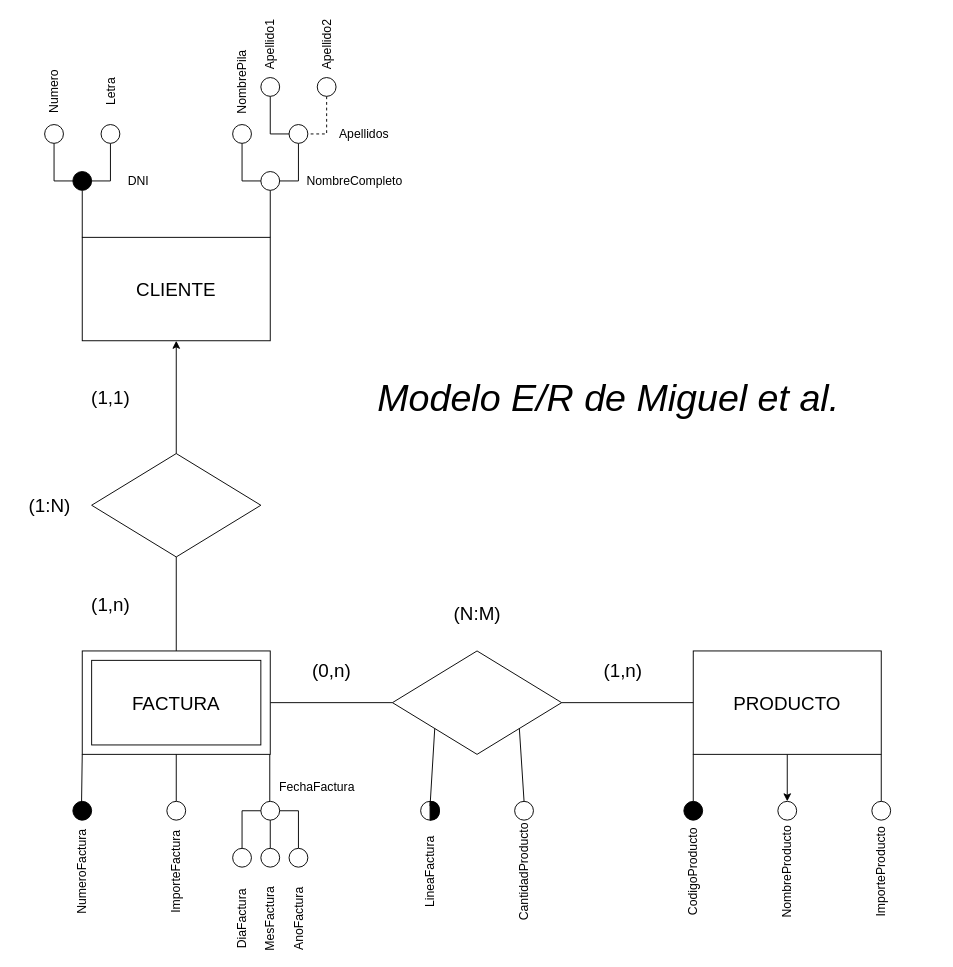
This 953x967 diagram has some shape labels left out. Here are the shapes that lost their labels. From the top down, the centre of each, then its label:
At (176,505): "causar".
At (477,702): "contener".
